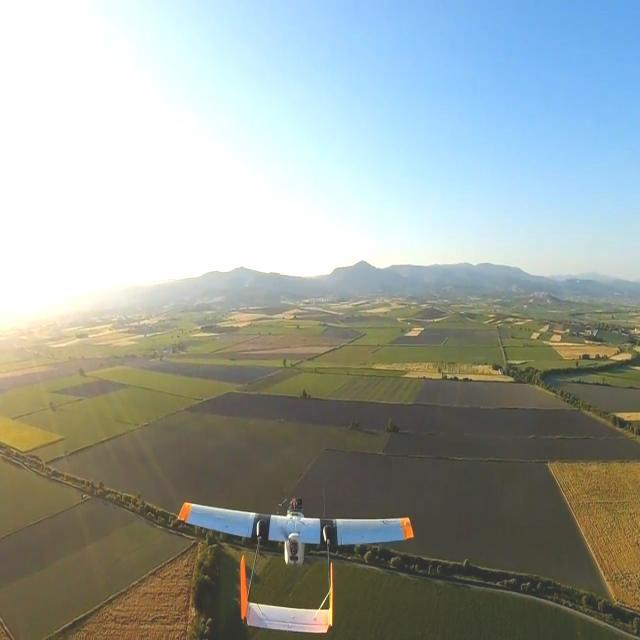iha: (167, 496, 417, 640)
